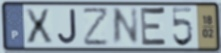5: (171, 6, 195, 48)
E: (139, 5, 168, 49)
J: (57, 8, 79, 46)
N: (111, 6, 141, 48)
X: (23, 7, 55, 45)
Z: (81, 6, 110, 48)
